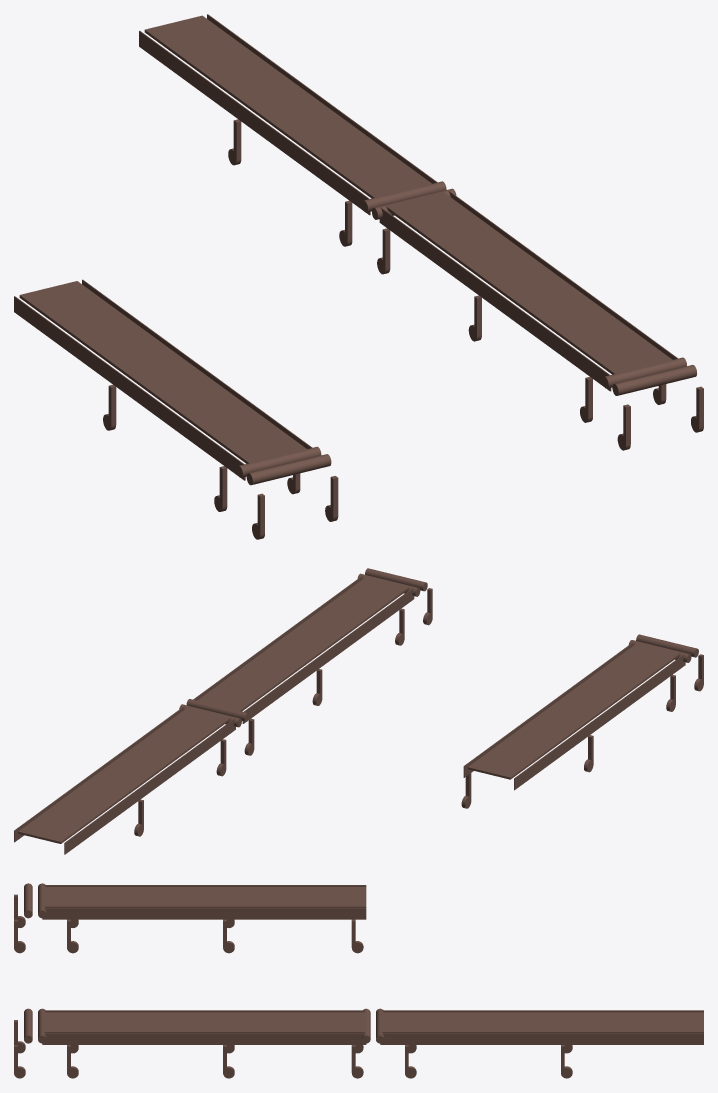
The model's file is GCC-AAV-13220-30.nwd(181).fbx.
3 views of the same model, one above another, from view 1: azimuth 30°, elevation 25°; view 2: azimuth 150°, elevation 25°; view 3: azimuth 270°, elevation 25° (orthographic). The views are drawn at different scales.
Visible parts, largest first — view 1: BOX 9 of SUBEQUIPMENT /721-U-101-X-015A, BOX 9 of SUBEQUIPMENT /721-U-102-X-015B, BOX 9 of SUBEQUIPMENT /721-U-102-X-015A, BOX 2 of SUBEQUIPMENT /721-U-102-X-015B, BOX 1 of SUBEQUIPMENT /721-U-101-X-015A, BOX 2 of SUBEQUIPMENT /721-U-102-X-015A, BOX 1 of SUBEQUIPMENT /721-U-102-X-015B, BOX 2 of SUBEQUIPMENT /721-U-101-X-015A, BOX 1 of SUBEQUIPMENT /721-U-102-X-015A, CYLINDER 1 of SUBEQUIPMENT 46 of EQUIPMENT /721-U-101, CYLINDER 1 of SUBEQUIPMENT 30 of EQUIPMENT /721-U-102, CYLINDER 2 of SUBEQUIPMENT /721-U-102-X-015A (+2 smaller); view 2: BOX 9 of SUBEQUIPMENT /721-U-102-X-015B, BOX 9 of SUBEQUIPMENT /721-U-101-X-015A, BOX 9 of SUBEQUIPMENT /721-U-102-X-015A, BOX 2 of SUBEQUIPMENT /721-U-102-X-015B, BOX 1 of SUBEQUIPMENT /721-U-101-X-015A, BOX 2 of SUBEQUIPMENT /721-U-102-X-015A, BOX 2 of SUBEQUIPMENT /721-U-101-X-015A, BOX 1 of SUBEQUIPMENT /721-U-102-X-015B, BOX 1 of SUBEQUIPMENT /721-U-102-X-015A, CYLINDER 1 of SUBEQUIPMENT 46 of EQUIPMENT /721-U-101, CYLINDER 1 of SUBEQUIPMENT 30 of EQUIPMENT /721-U-102, CYLINDER 1 of SUBEQUIPMENT /721-U-102-X-015A; view 3: BOX 9 of SUBEQUIPMENT /721-U-101-X-015A, BOX 9 of SUBEQUIPMENT /721-U-102-X-015A, BOX 9 of SUBEQUIPMENT /721-U-102-X-015B, BOX 2 of SUBEQUIPMENT /721-U-101-X-015A, BOX 1 of SUBEQUIPMENT /721-U-102-X-015B, BOX 1 of SUBEQUIPMENT /721-U-102-X-015A, BOX 2 of SUBEQUIPMENT /721-U-102-X-015B, BOX 2 of SUBEQUIPMENT /721-U-102-X-015A, BOX 1 of SUBEQUIPMENT /721-U-101-X-015A.
Part boxes in pixels (bbox=[...]): BOX 9 of SUBEQUIPMENT /721-U-101-X-015A: bbox=[19, 281, 307, 463]; BOX 9 of SUBEQUIPMENT /721-U-102-X-015B: bbox=[144, 15, 432, 198]; BOX 9 of SUBEQUIPMENT /721-U-102-X-015A: bbox=[385, 191, 673, 374]; BOX 2 of SUBEQUIPMENT /721-U-102-X-015B: bbox=[139, 31, 370, 215]; BOX 1 of SUBEQUIPMENT /721-U-101-X-015A: bbox=[14, 296, 245, 480]; BOX 2 of SUBEQUIPMENT /721-U-102-X-015A: bbox=[379, 207, 611, 391]; BOX 1 of SUBEQUIPMENT /721-U-102-X-015B: bbox=[207, 14, 437, 183]; BOX 2 of SUBEQUIPMENT /721-U-101-X-015A: bbox=[82, 279, 312, 448]; BOX 1 of SUBEQUIPMENT /721-U-102-X-015A: bbox=[448, 190, 678, 359]; CYLINDER 1 of SUBEQUIPMENT 46 of EQUIPMENT /721-U-101: bbox=[246, 454, 331, 485]; CYLINDER 1 of SUBEQUIPMENT 30 of EQUIPMENT /721-U-102: bbox=[612, 365, 696, 395]; CYLINDER 2 of SUBEQUIPMENT /721-U-102-X-015A: bbox=[602, 357, 686, 388]; BOX 9 of SUBEQUIPMENT /721-U-102-X-015B: bbox=[18, 706, 231, 843]; BOX 9 of SUBEQUIPMENT /721-U-101-X-015A: bbox=[467, 642, 680, 779]; BOX 9 of SUBEQUIPMENT /721-U-102-X-015A: bbox=[197, 576, 409, 711]; BOX 2 of SUBEQUIPMENT /721-U-102-X-015B: bbox=[64, 718, 235, 854]; BOX 1 of SUBEQUIPMENT /721-U-101-X-015A: bbox=[514, 653, 685, 790]; BOX 2 of SUBEQUIPMENT /721-U-102-X-015A: bbox=[242, 587, 414, 723]; BOX 2 of SUBEQUIPMENT /721-U-101-X-015A: bbox=[463, 641, 634, 777]; BOX 1 of SUBEQUIPMENT /721-U-102-X-015B: bbox=[14, 705, 184, 842]; BOX 1 of SUBEQUIPMENT /721-U-102-X-015A: bbox=[193, 575, 363, 700]; CYLINDER 1 of SUBEQUIPMENT 46 of EQUIPMENT /721-U-101: bbox=[636, 634, 698, 657]; CYLINDER 1 of SUBEQUIPMENT 30 of EQUIPMENT /721-U-102: bbox=[365, 568, 427, 591]; CYLINDER 1 of SUBEQUIPMENT /721-U-102-X-015A: bbox=[186, 699, 249, 721]; BOX 9 of SUBEQUIPMENT /721-U-101-X-015A: bbox=[42, 887, 366, 908]; BOX 9 of SUBEQUIPMENT /721-U-102-X-015A: bbox=[42, 1012, 366, 1033]; BOX 9 of SUBEQUIPMENT /721-U-102-X-015B: bbox=[380, 1012, 703, 1033]; BOX 2 of SUBEQUIPMENT /721-U-101-X-015A: bbox=[42, 908, 366, 919]; BOX 1 of SUBEQUIPMENT /721-U-102-X-015B: bbox=[380, 1033, 703, 1044]; BOX 1 of SUBEQUIPMENT /721-U-102-X-015A: bbox=[42, 1033, 366, 1044]; BOX 2 of SUBEQUIPMENT /721-U-102-X-015B: bbox=[380, 1010, 703, 1012]; BOX 2 of SUBEQUIPMENT /721-U-102-X-015A: bbox=[42, 1010, 365, 1012]; BOX 1 of SUBEQUIPMENT /721-U-101-X-015A: bbox=[42, 885, 366, 886].
Bounding box in the file's own units: 182 × 23.94 × 348.
